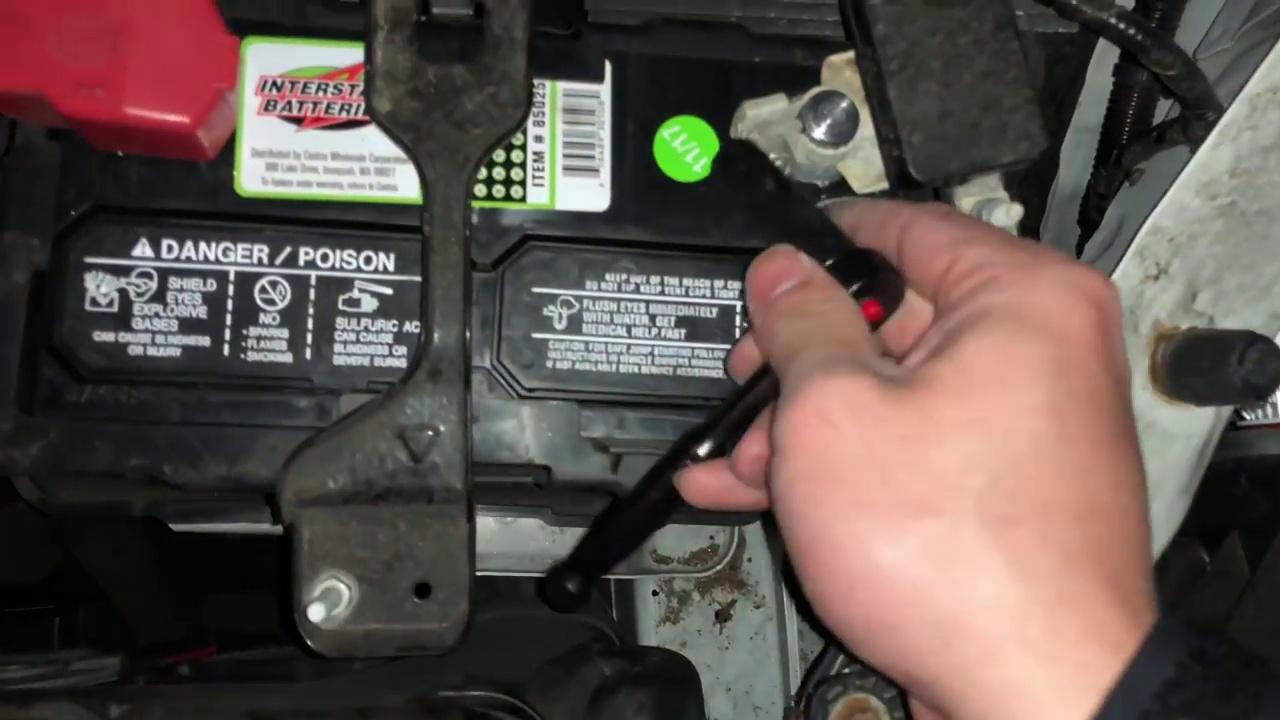battery: (4, 4, 930, 485)
neg_connected: (726, 50, 889, 201)
neg_touched: (698, 64, 999, 495)
pos_connected: (8, 6, 247, 168)
